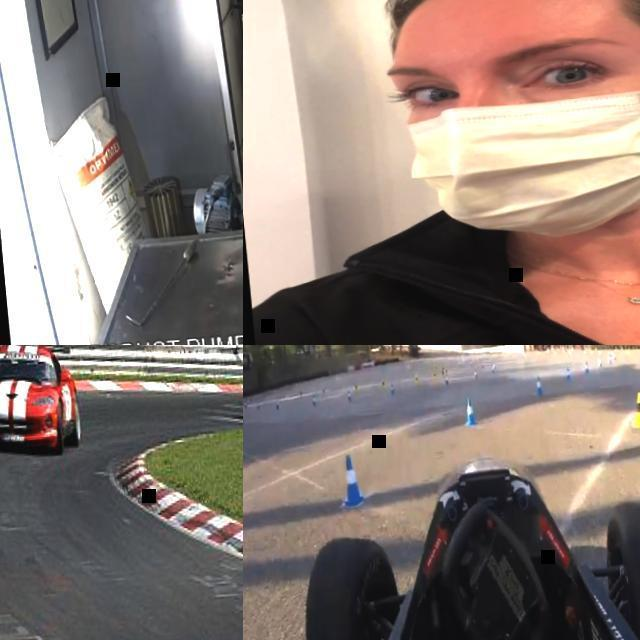no_helmet: (385, 0, 640, 38)
